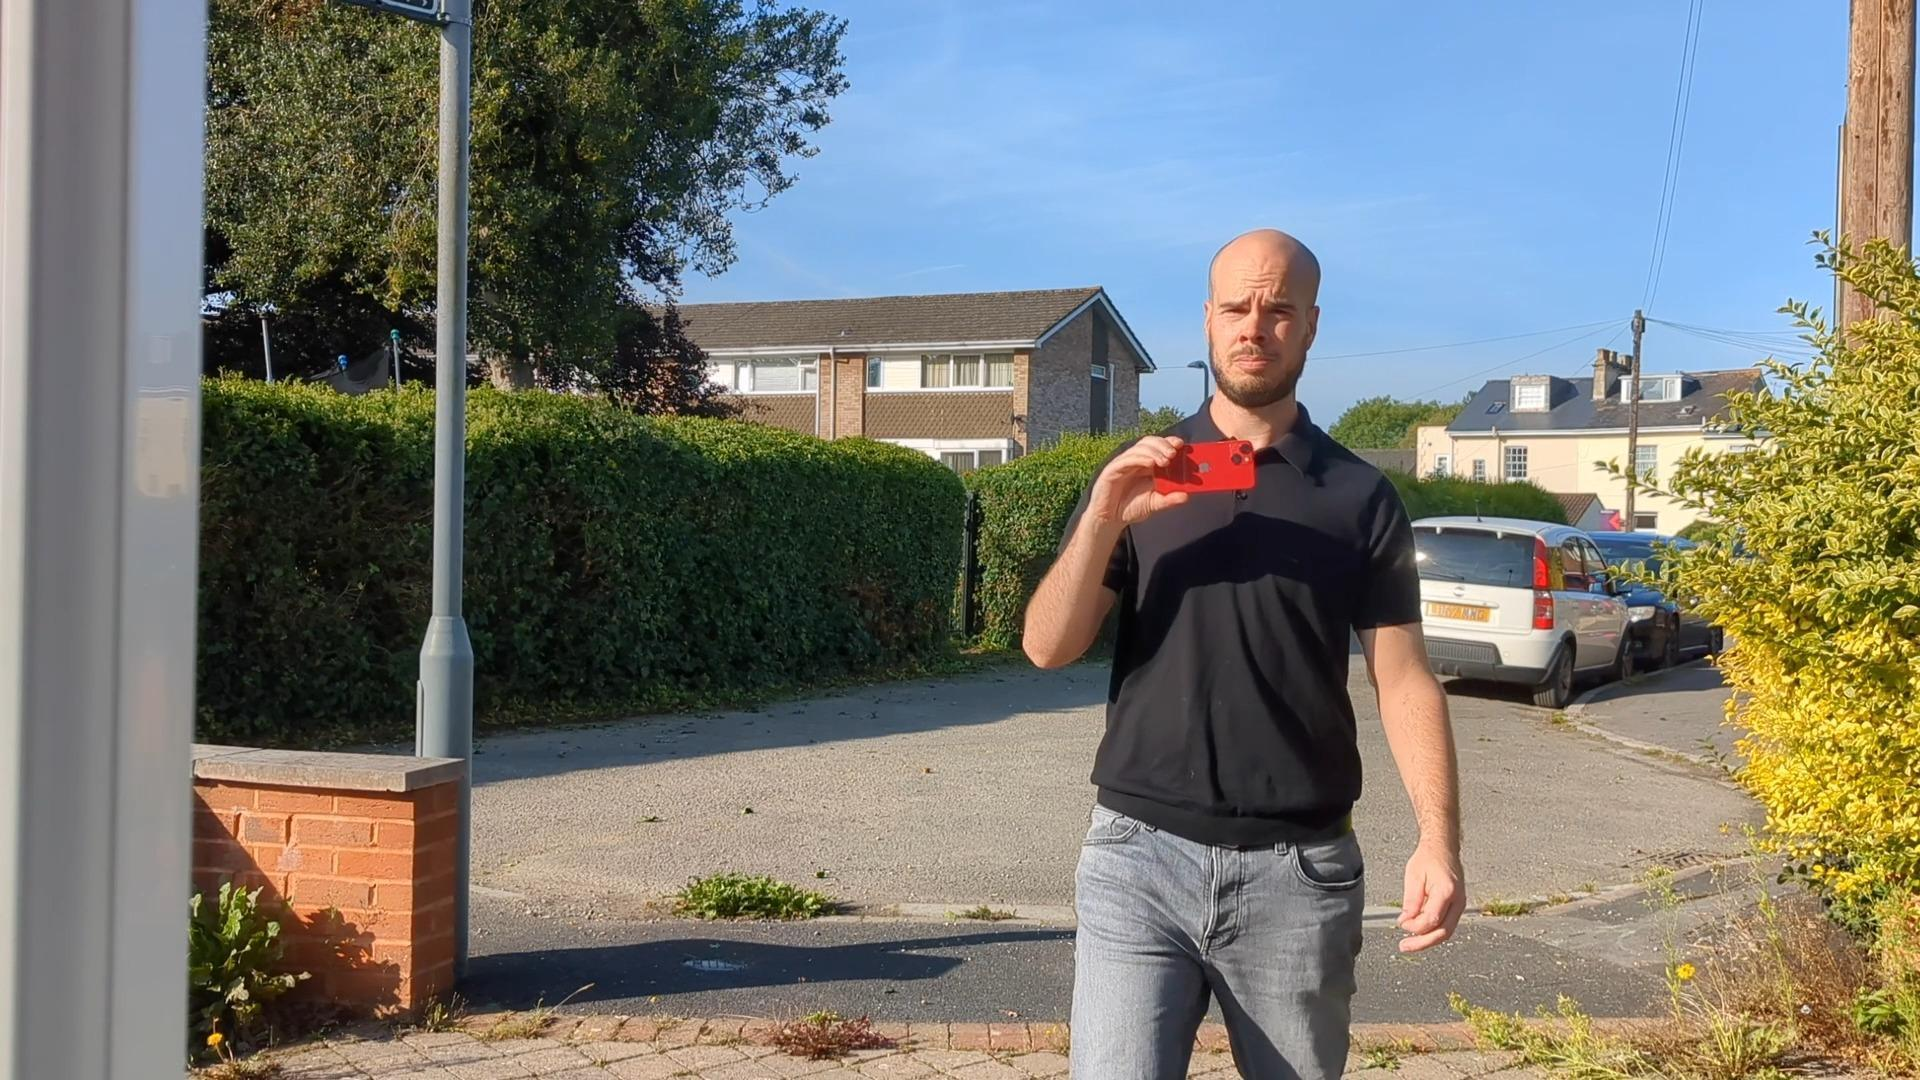phone: (1151, 439, 1258, 493)
